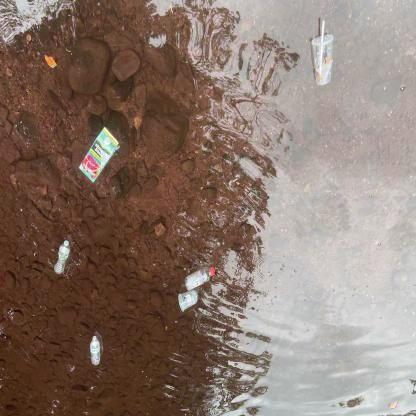Plastic: (308, 15, 337, 91), (183, 264, 218, 294), (51, 236, 74, 275), (85, 333, 106, 369), (173, 288, 201, 314)
